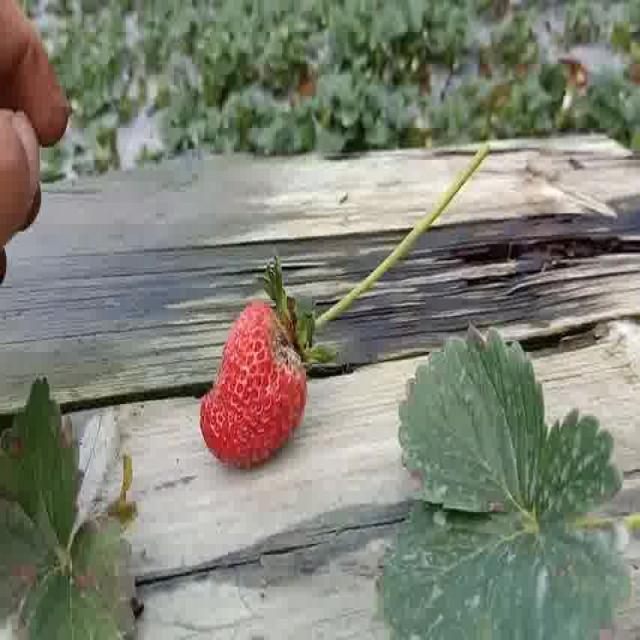Mancha negra Antracnosis: (198, 283, 313, 472)
